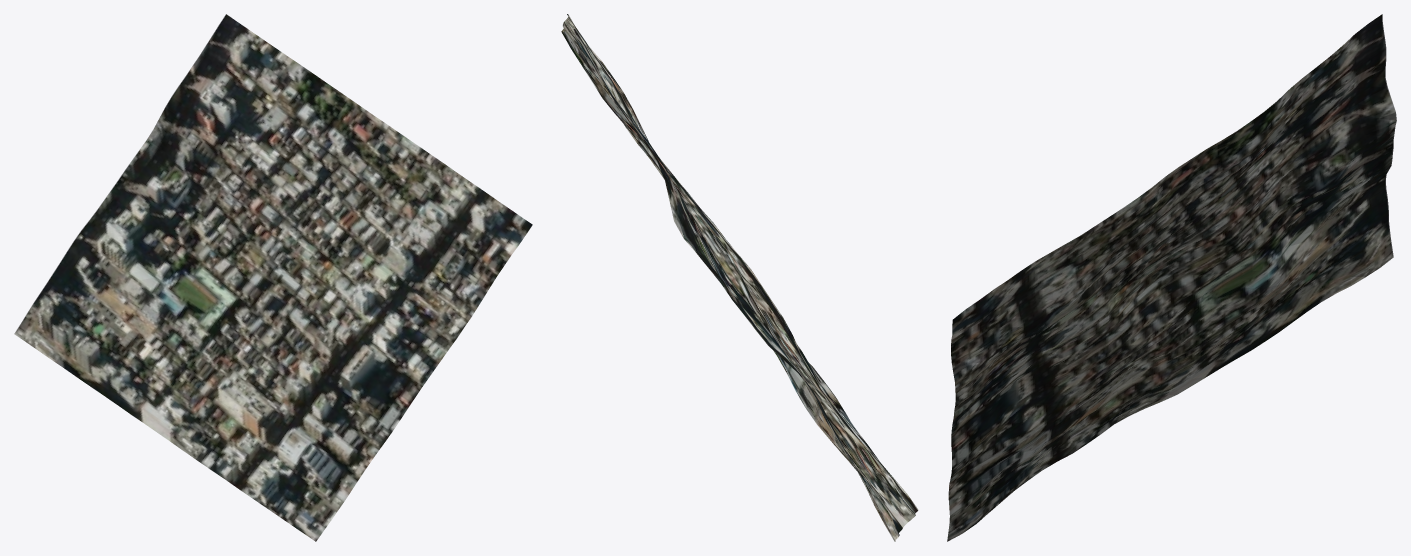
3 renders of one model, left to right at view 1: azimuth 30°, elevation 25°; view 2: azimuth 150°, elevation 25°; view 3: azimuth 270°, elevation 25°, orthographic. The views are drawn at different scales.
Size of the model in its own units: 544 by 572 by 408.
Materials: 1 (1 with a texture image).
